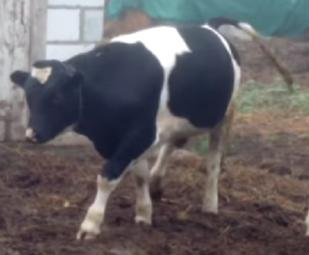cow: (11, 25, 239, 240)
